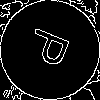P: (25, 25, 80, 73)
